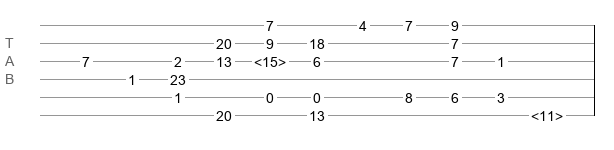0: (266, 90, 274, 100), (313, 90, 321, 100)
1: (128, 72, 136, 82), (174, 90, 182, 100), (497, 54, 505, 64)
13: (216, 54, 232, 64), (309, 108, 325, 118)
18: (309, 36, 325, 46)
2: (174, 54, 182, 64)
20: (216, 36, 232, 46), (216, 108, 232, 118)
23: (170, 72, 186, 82)
3: (497, 90, 505, 100)
4: (359, 18, 367, 28)
6: (313, 54, 321, 64), (451, 90, 459, 100)
7: (82, 54, 90, 64), (266, 18, 274, 28), (405, 18, 413, 28), (451, 54, 459, 64), (451, 36, 459, 46)
8: (405, 90, 413, 100)
9: (266, 36, 274, 46), (451, 18, 459, 28)
harmonic: (254, 54, 286, 64), (531, 108, 563, 118)
